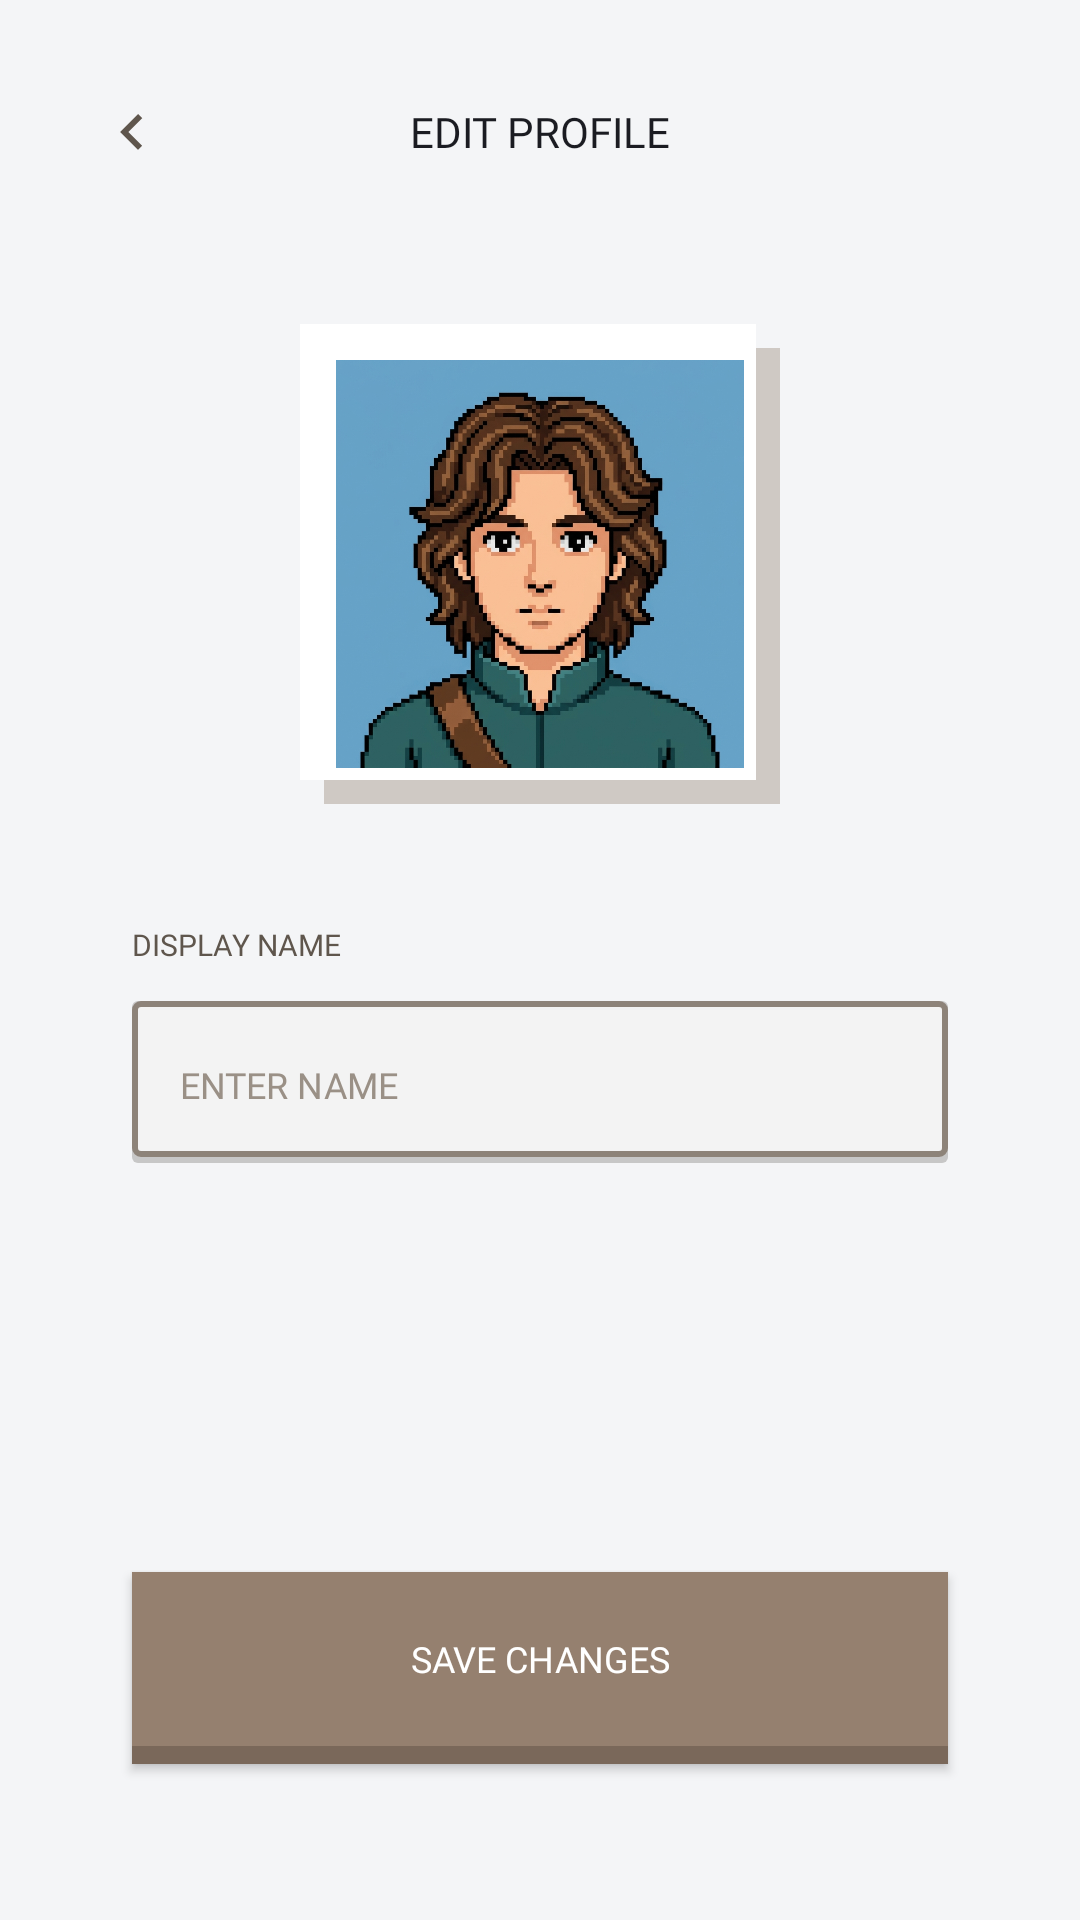

Point at icon controls on the screen. Image size 1080 x 1920, points as [x,y].
Back: [131,132]
